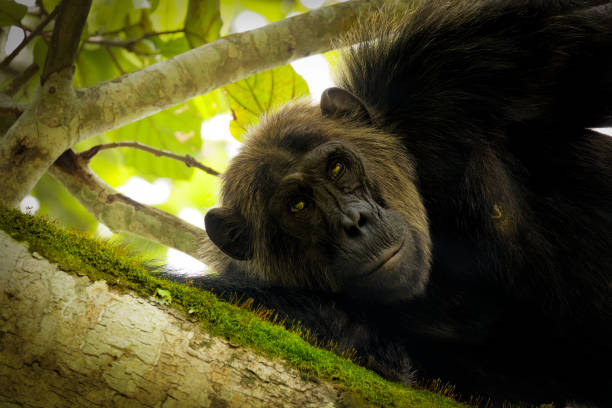chimpanzee: (165, 83, 467, 327)
